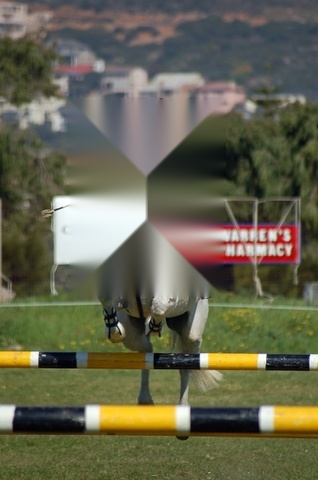horse: (93, 162, 226, 442)
